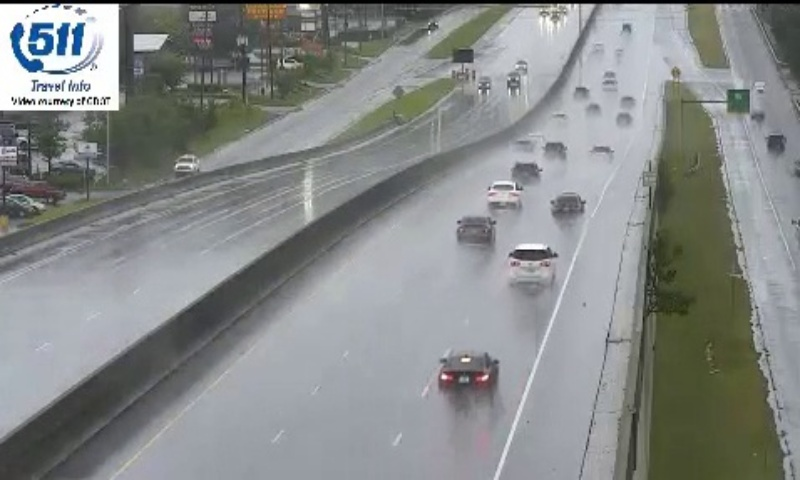car: (440, 350, 497, 396), (510, 243, 555, 285), (456, 215, 493, 243), (487, 180, 520, 209), (550, 192, 585, 219), (512, 161, 540, 184)
